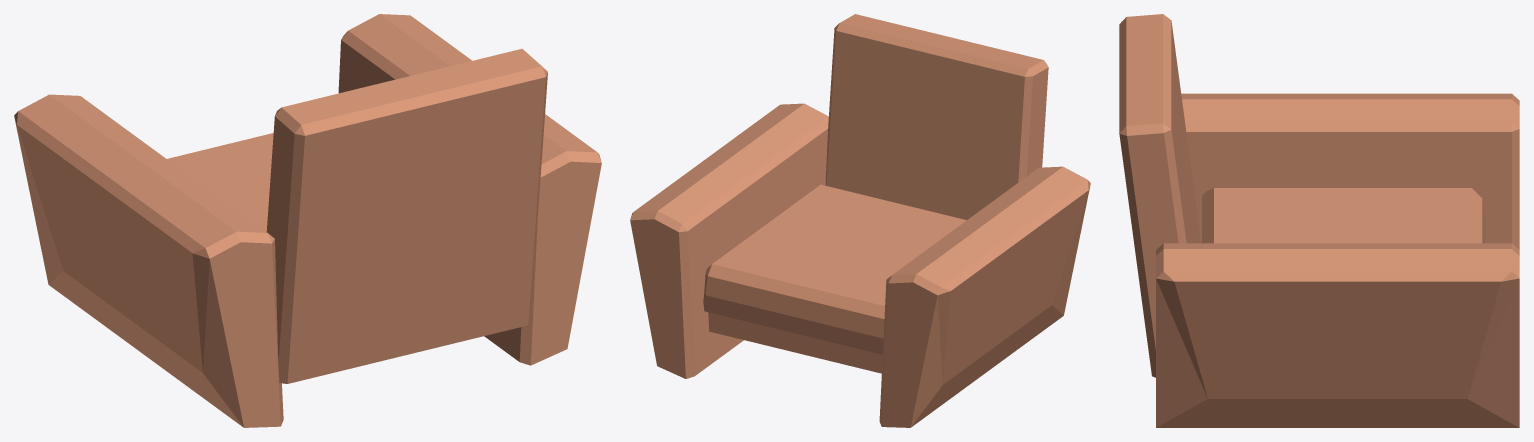
Rendered from orange_armchair.glb.
The picture shows the model from 3 angles, left to right: view 1: azimuth 30°, elevation 25°; view 2: azimuth 150°, elevation 25°; view 3: azimuth 270°, elevation 25°; orthographic projection. The views are drawn at different scales.
Visible parts, largest first — view 1: furniture_018; view 2: furniture_018; view 3: furniture_018.
Boxes of the visible parts, x1,y1,x2,y2 form: furniture_018: (14, 14, 601, 427); furniture_018: (630, 14, 1090, 427); furniture_018: (1119, 14, 1519, 427).
Size of the model in its own units: 0.8668 by 0.6423 by 0.7949.
